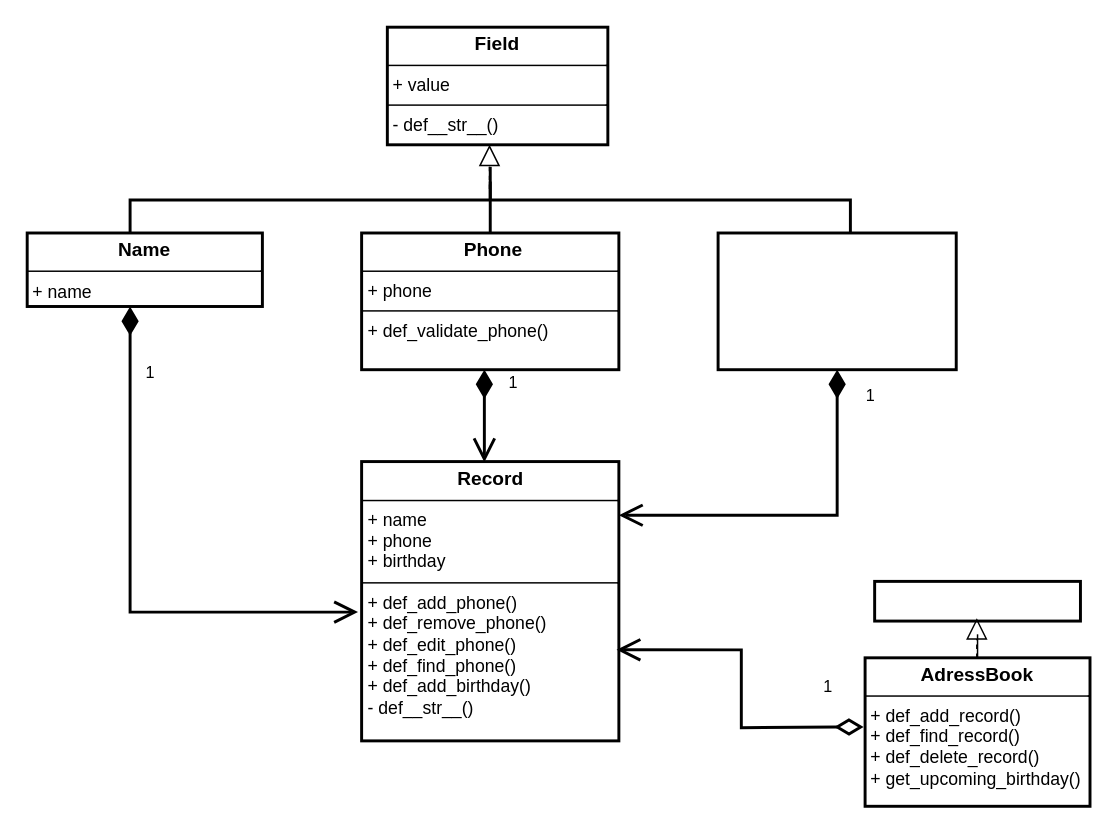
This 1116x832 diagram has some shape labels left out. The centre of each missing label's shape, as x and y in pixels:
"Birthday + value - def__is__valid()" belongs at [836,300].
"User Dict" belongs at [976,600].
